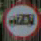Heavy Vehicles: (3, 2, 40, 39)
